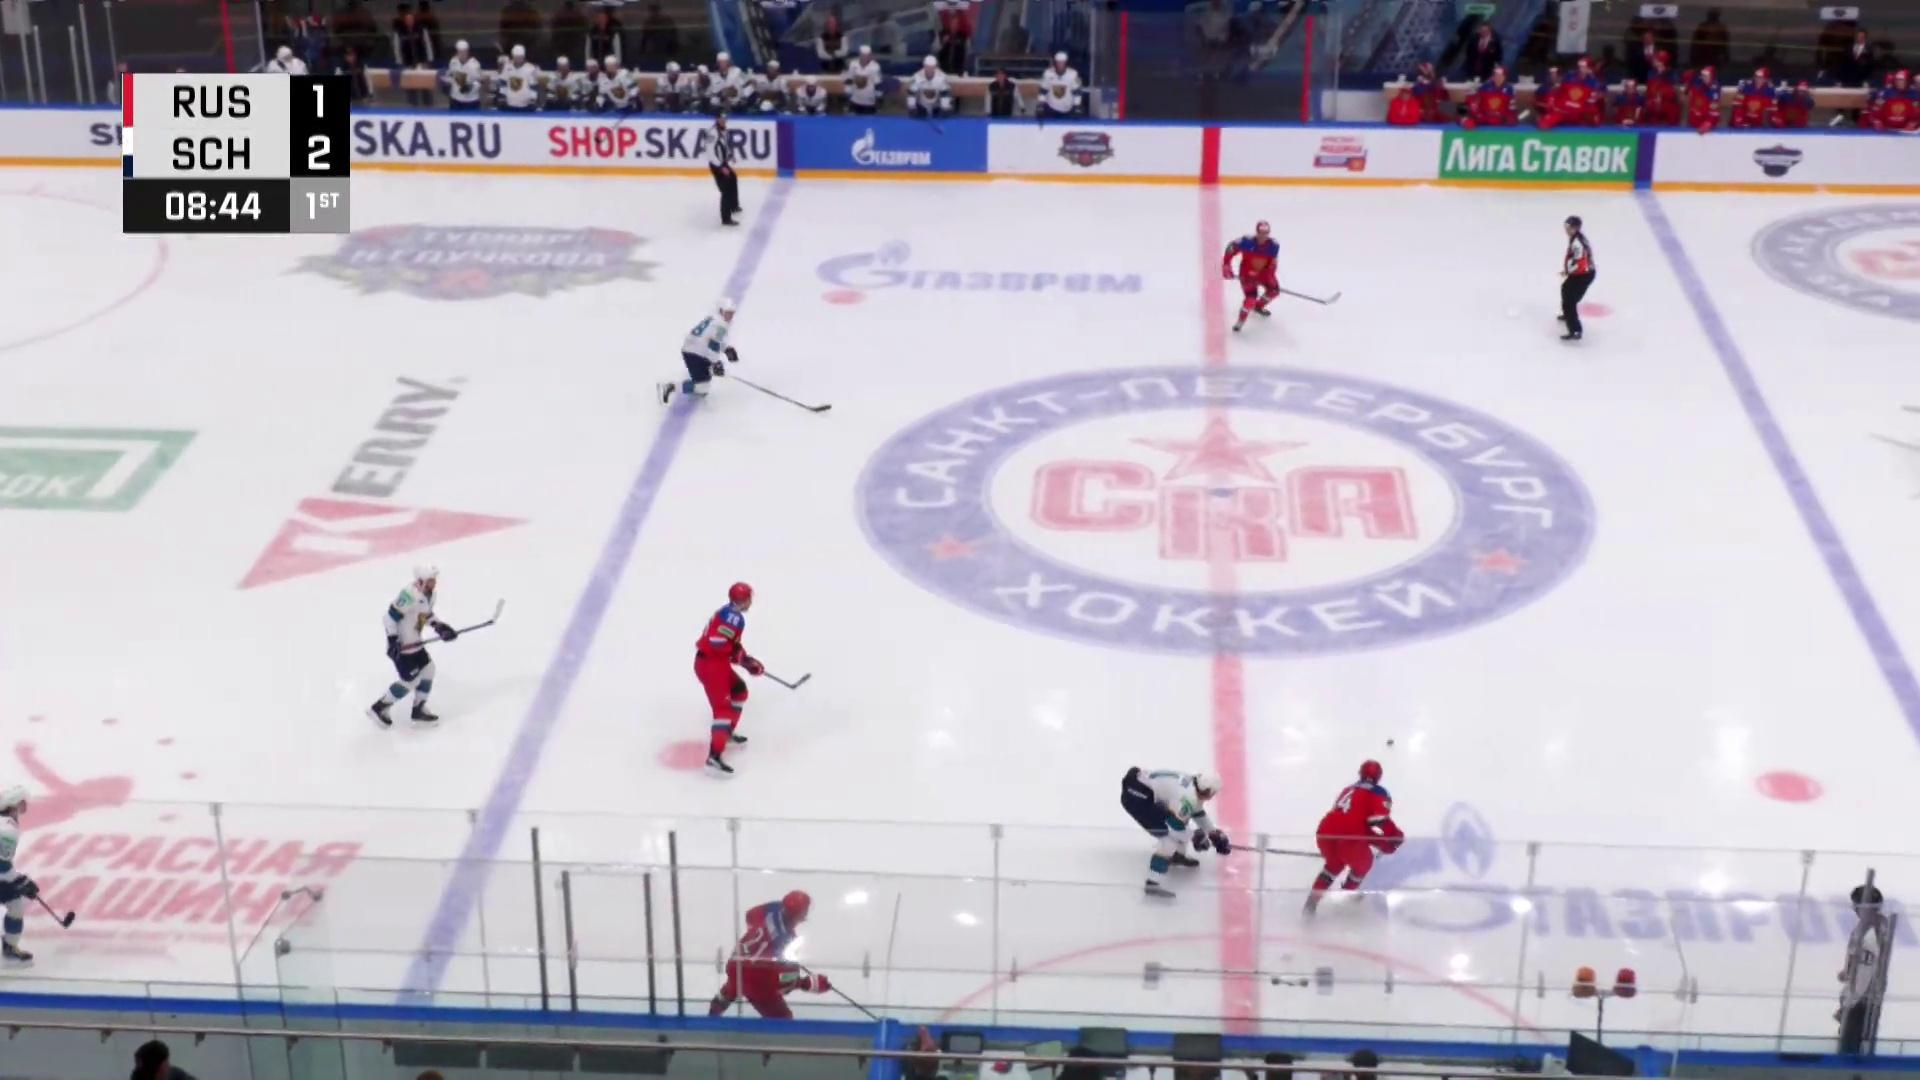ball: (1386, 740, 1395, 746)
